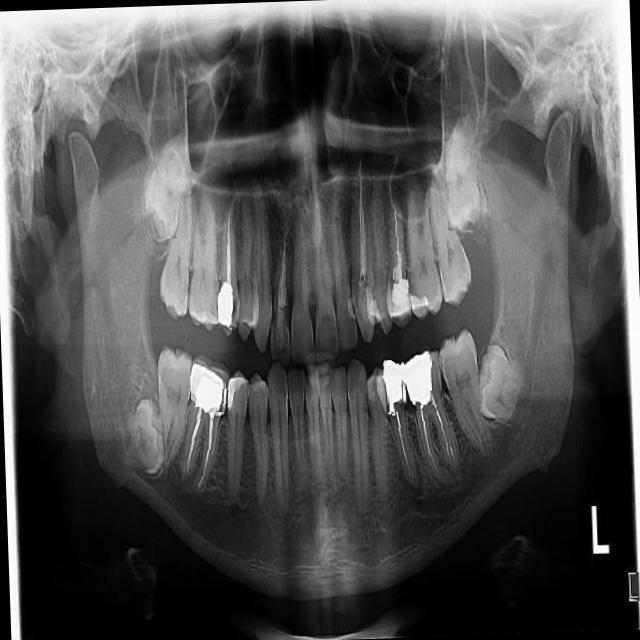dolgu: (226, 379, 246, 407), (410, 294, 432, 314)
kanal-tedavisi: (414, 398, 456, 472), (190, 404, 219, 498), (353, 181, 373, 288), (389, 406, 417, 481), (386, 198, 410, 284), (218, 203, 239, 289), (273, 224, 291, 320)
kaplama: (188, 365, 225, 414), (400, 354, 434, 397), (383, 362, 408, 412), (217, 285, 236, 326), (388, 284, 408, 320)
